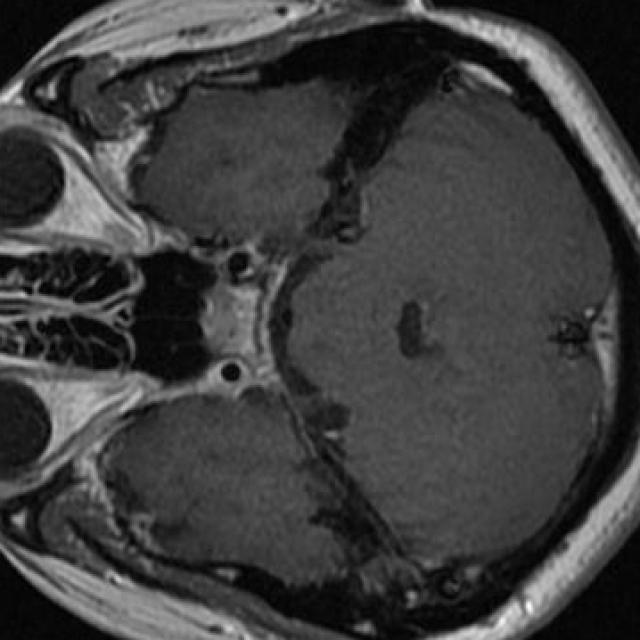pituitary: (201, 282, 260, 357)
